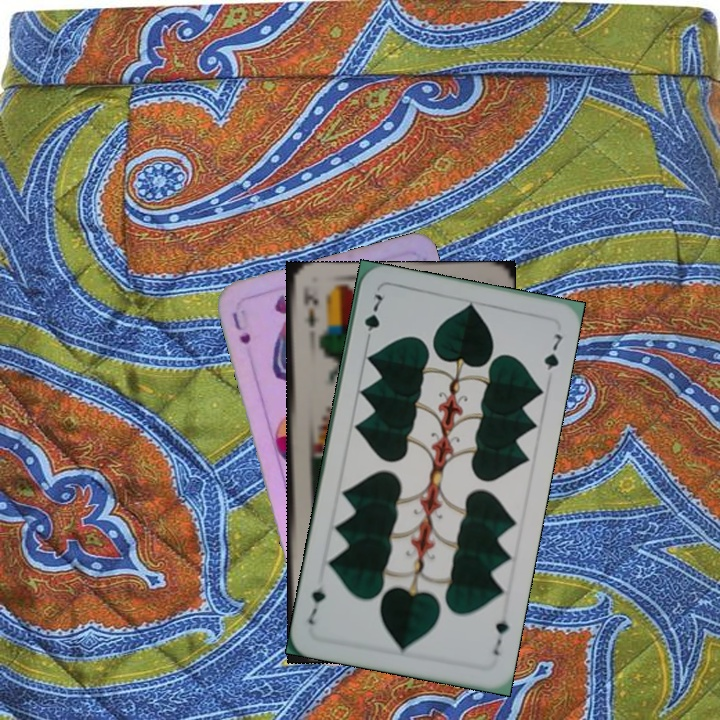EK: (298, 287, 321, 330)
G7: (360, 289, 386, 347), (489, 615, 512, 658)
SU: (228, 308, 254, 347)
